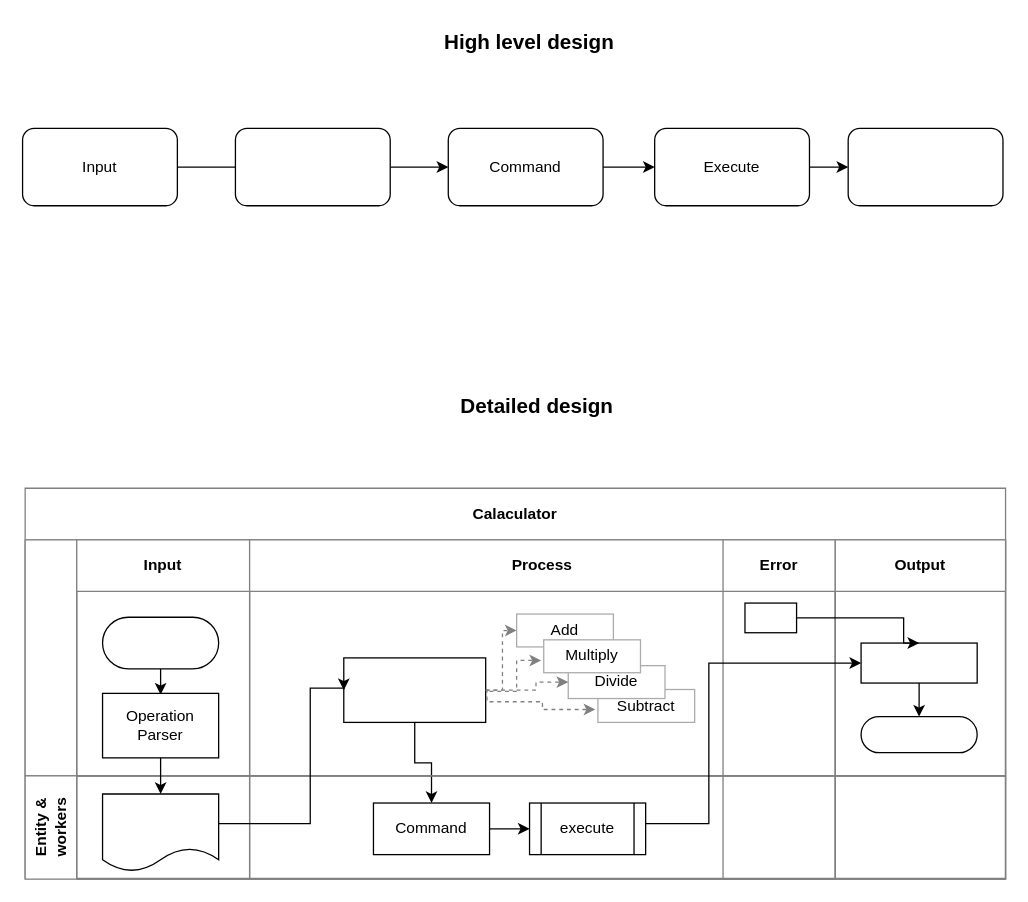
Some shapes in this 1028 by 902 pixel diagram are drawn without their labels. Here are the shapes that lost their labels. From the top down, the centre of each, then its label:
At (x=312, y=166): "Parse".
At (x=925, y=166): "Display result".
At (x=770, y=617): "Handle".
At (x=160, y=642): "Start".
At (x=918, y=662): "ConsoleOutput".
At (x=414, y=689): "CommandFactory".
At (x=918, y=734): "End".
At (x=160, y=832): "Operation".
